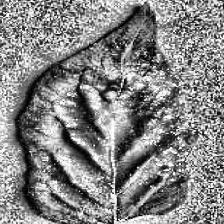spider mites: (20, 3, 193, 224)
